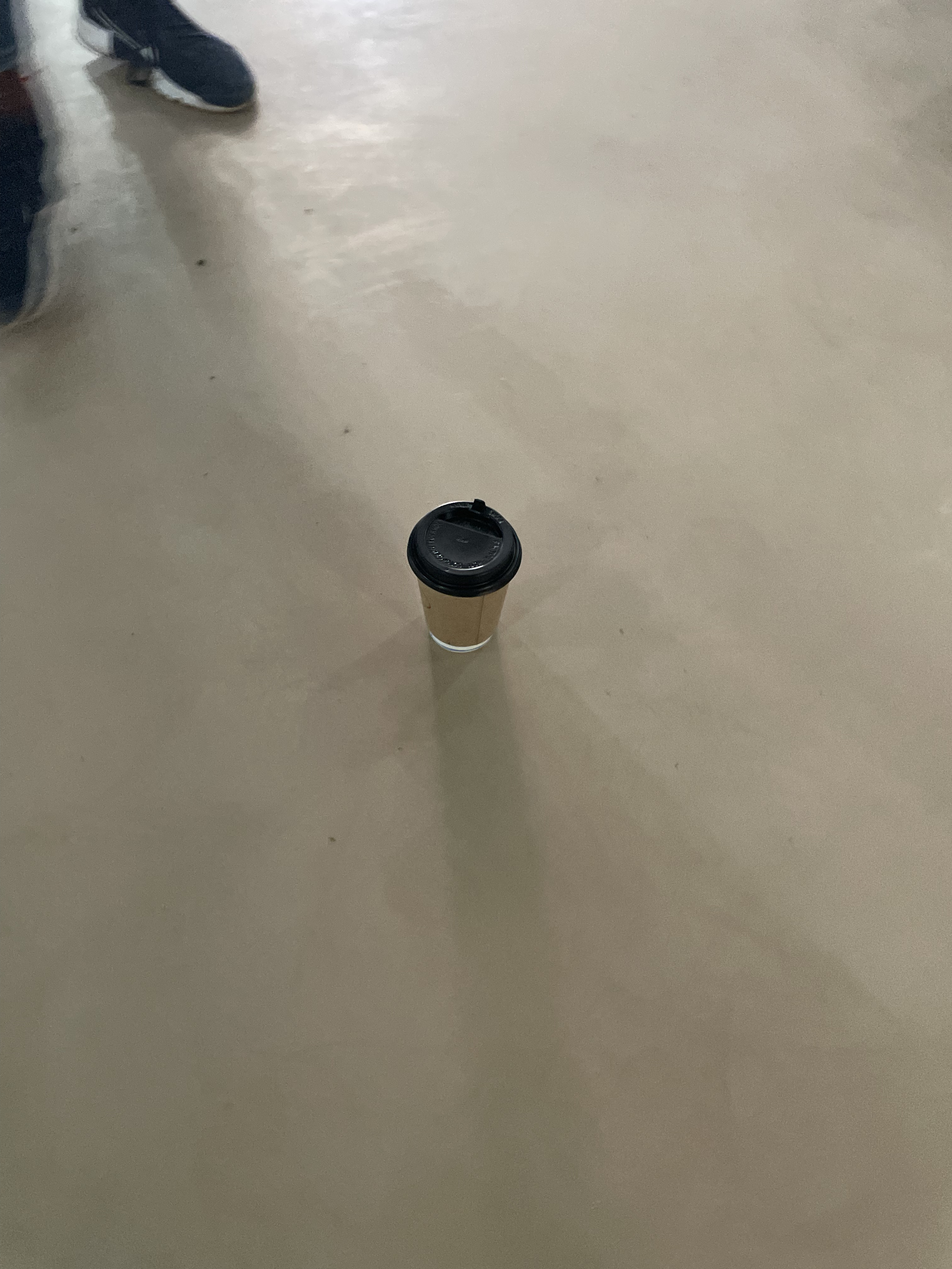cup: (407, 499, 521, 653)
